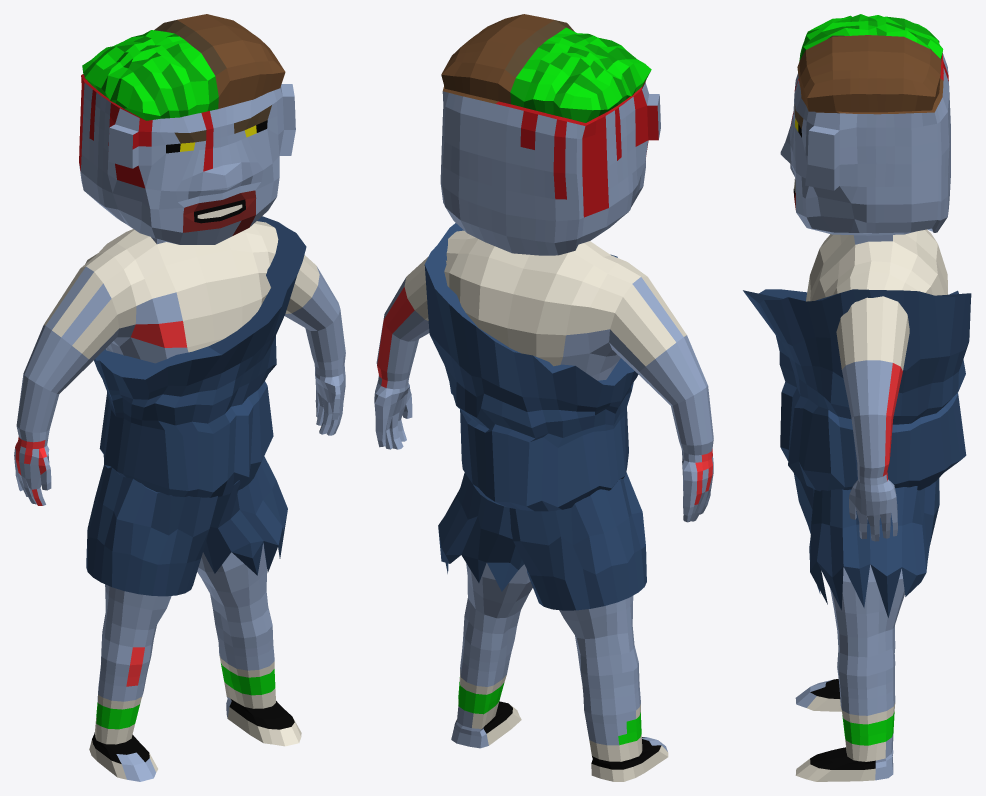
File: Zombie.fbx
3 renders of one model, left to right at view 1: azimuth 30°, elevation 25°; view 2: azimuth 150°, elevation 25°; view 3: azimuth 270°, elevation 25°, orthographic. The views are drawn at different scales.
Visible parts, largest first — view 1: Cube.004, Cylinder.003, Cube.003; view 2: Cube.004, Cylinder.003, Cube.003; view 3: Cylinder.003, Cube.004, Cube.003.
Boxes of the visible parts, <box> form: Cube.004: <box>14,221,345,781</box>; Cylinder.003: <box>86,216,306,596</box>; Cube.003: <box>79,14,295,244</box>; Cube.004: <box>374,230,713,781</box>; Cylinder.003: <box>424,223,646,610</box>; Cube.003: <box>440,14,660,255</box>; Cylinder.003: <box>743,289,971,617</box>; Cube.004: <box>795,229,947,781</box>; Cube.003: <box>780,14,950,235</box>.
Size of the model in its own units: 399 by 821 by 241.
